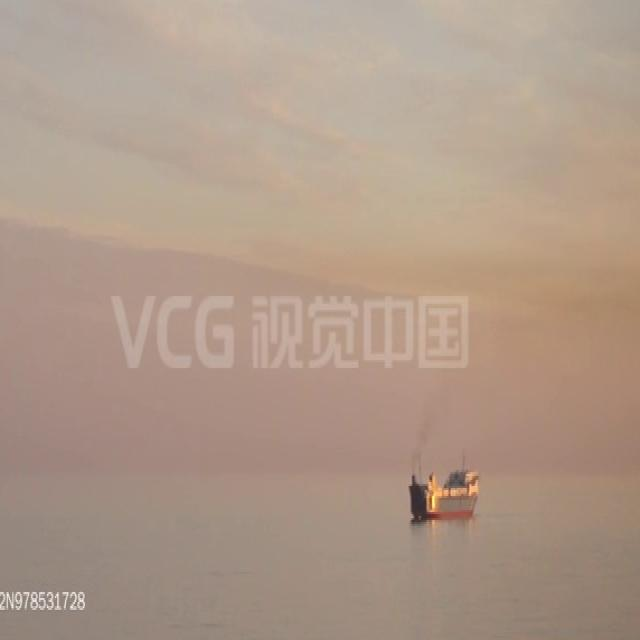cargoship: (409, 451, 479, 520)
